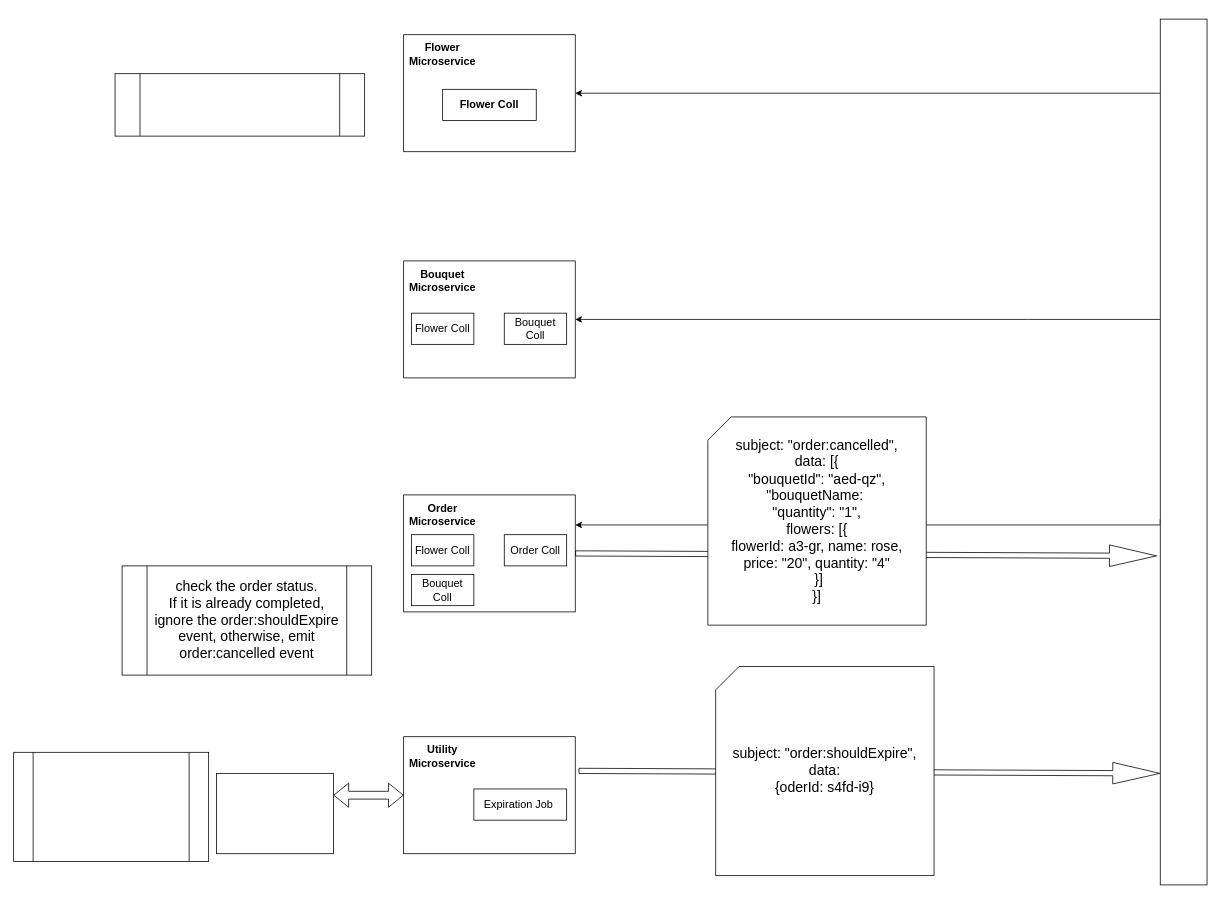
The diagram is 1221 pixels wide and 899 high, and some of its shapes have lost their labels. The shapes that lost their labels are listed below. From the top down, each one's centre as x and y in pixels, then its label:
At [239,104]: "- increase the quantity of flowers - emit event of flowers:updated".
At [1183,451]: "E V E N T B U S".
At [111,807]: "When timer ends, publish the order:shouldExpire event".
At [274,813]: "Redis in-mem".
